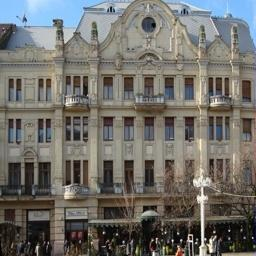building: (50, 0, 256, 256)
